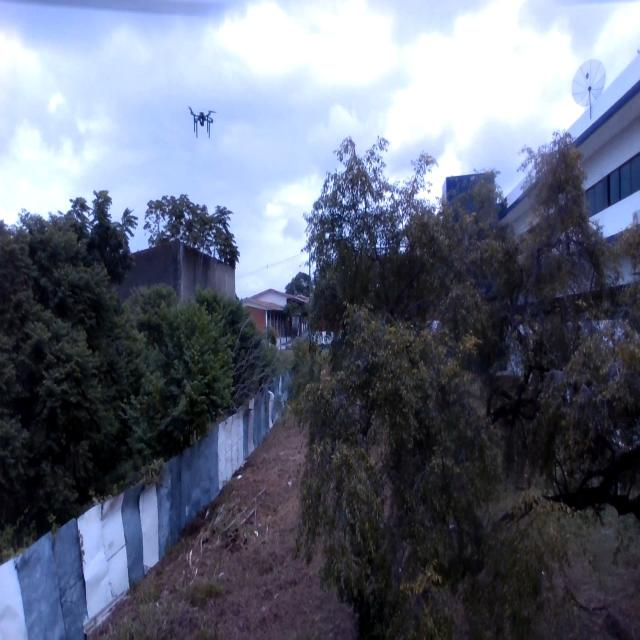-uav-: (184, 98, 219, 142)
